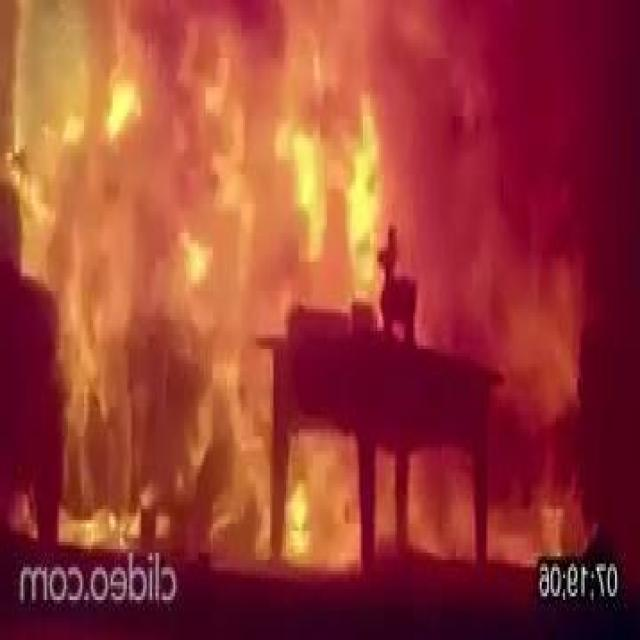smoke: (59, 218, 274, 553), (0, 0, 167, 269), (286, 436, 360, 560), (278, 118, 330, 260), (343, 96, 379, 296), (409, 454, 472, 560), (486, 487, 576, 560), (372, 447, 397, 564)
